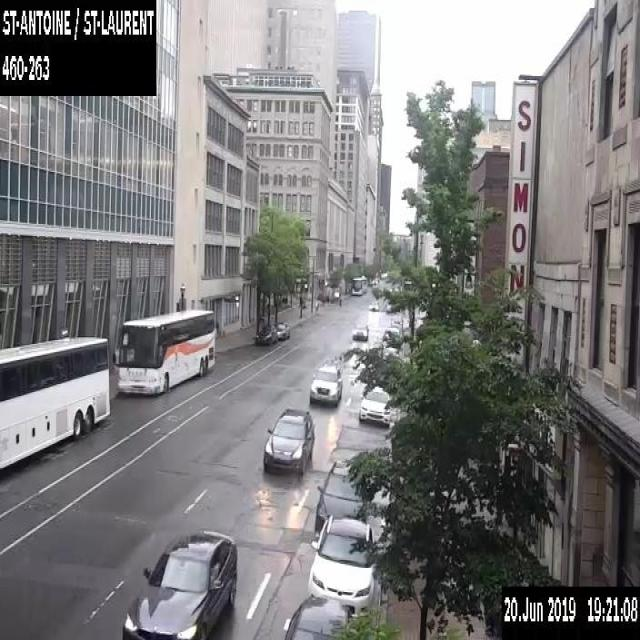bus: (0, 332, 110, 471), (115, 304, 216, 396), (350, 276, 367, 295)
pedestrian: (314, 300, 318, 312), (338, 296, 341, 307)
vehicle: (119, 530, 236, 638), (307, 512, 376, 617), (314, 460, 367, 532), (262, 407, 314, 474), (282, 594, 353, 638), (308, 363, 342, 406), (358, 385, 390, 426), (255, 324, 277, 346), (382, 326, 400, 346), (352, 322, 368, 341), (274, 321, 290, 339), (382, 346, 398, 361), (390, 312, 403, 326), (368, 300, 378, 309)
